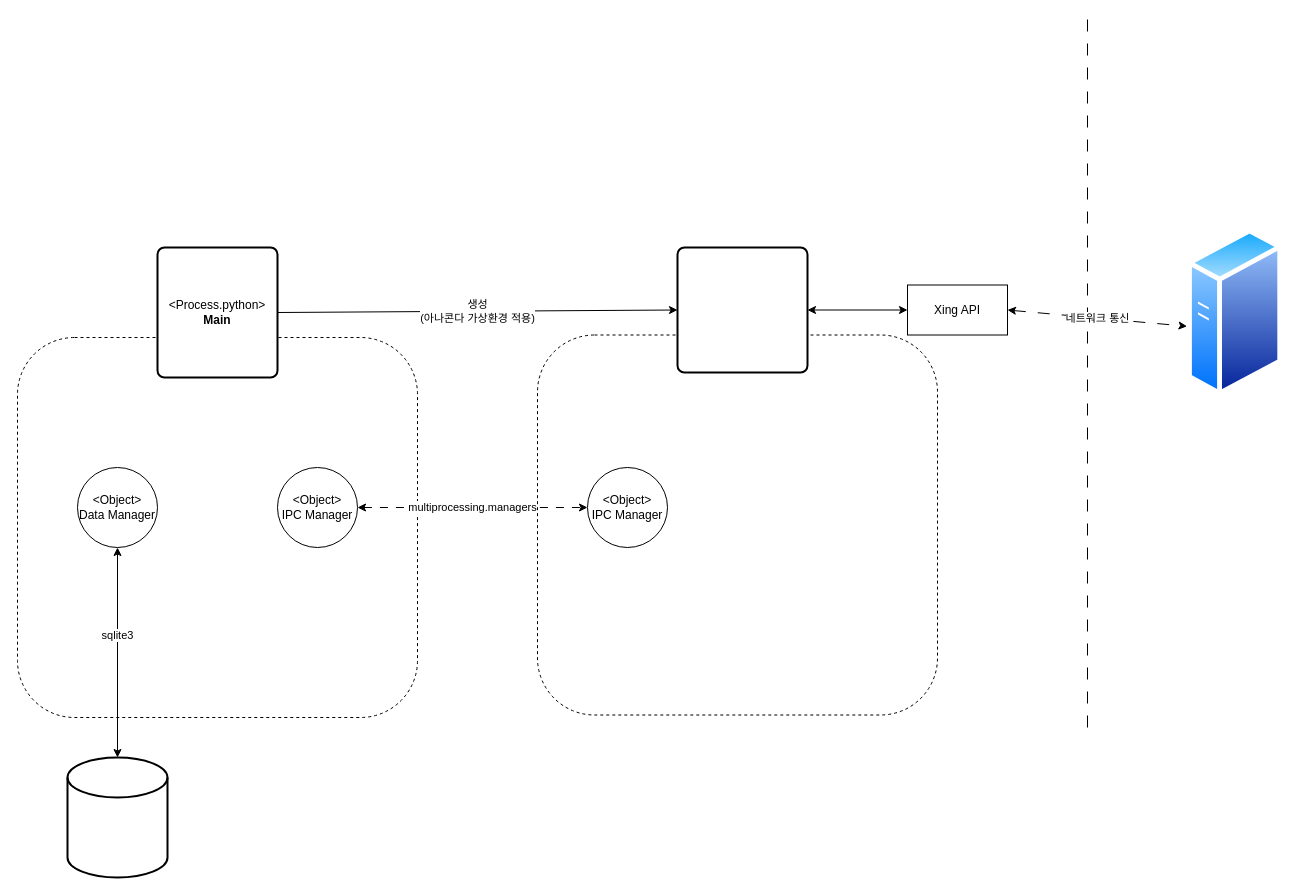
This 1300x896 diagram has some shape labels left out. The centre of each missing label's shape, as x and y in pixels:
"<Process.python> (32bit 가상환경) XingManager" goes at point (742, 309).
"DB" goes at point (117, 817).
"증권사 API서버" goes at point (1234, 312).
